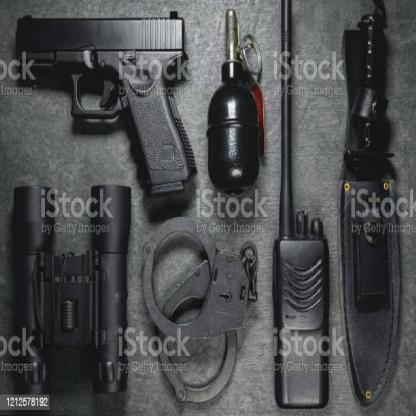Grenade: (206, 9, 266, 195)
Knife: (341, 14, 402, 402)
Pistol: (15, 12, 199, 195)
